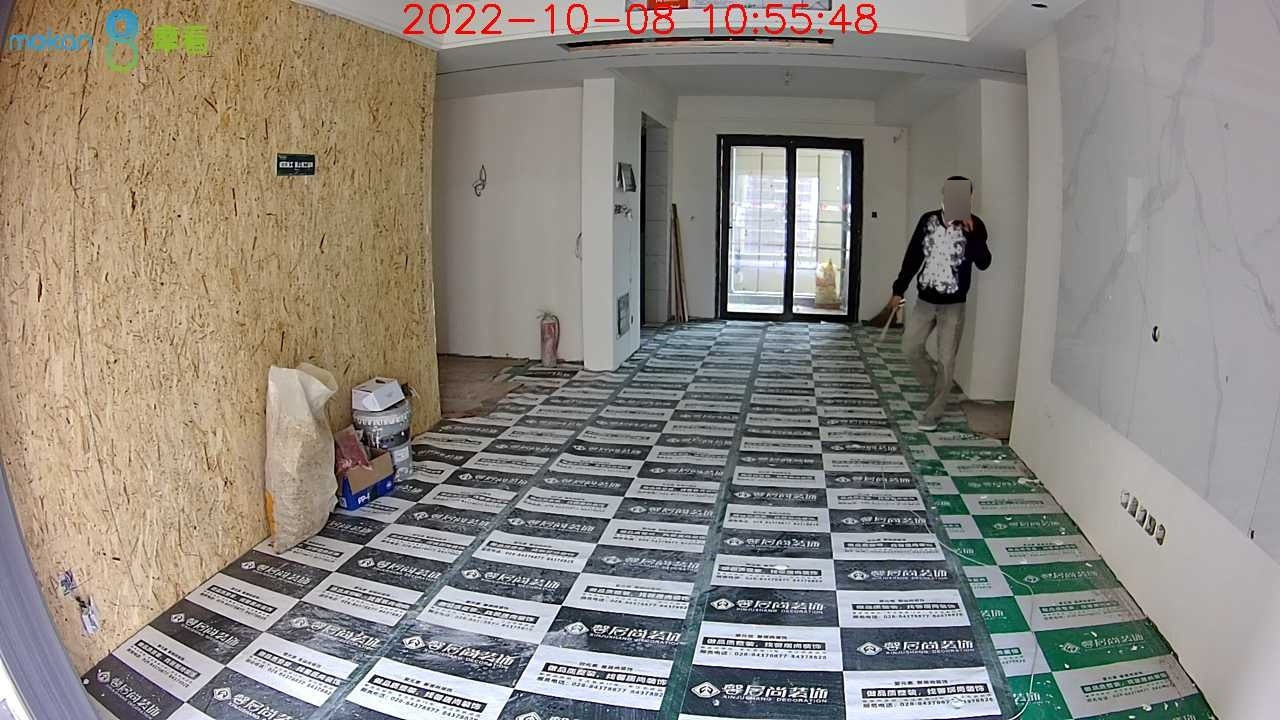people: (892, 177, 992, 429)
window: (723, 141, 855, 321)
